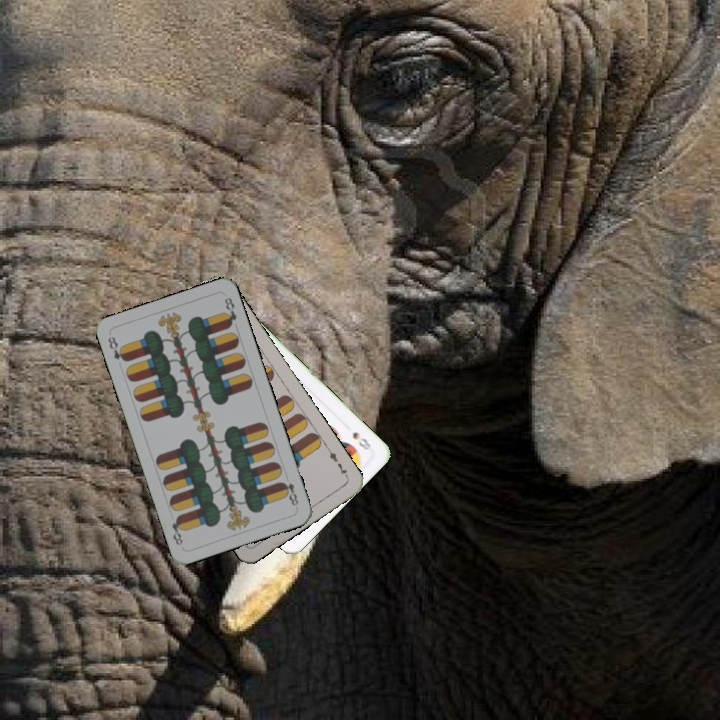E7: (324, 444, 351, 480)
E8: (104, 332, 130, 364), (277, 478, 301, 508)
S8: (348, 428, 376, 453)
